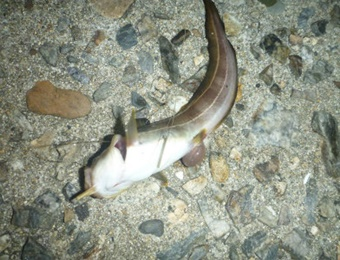gonzui: (64, 2, 260, 204)
